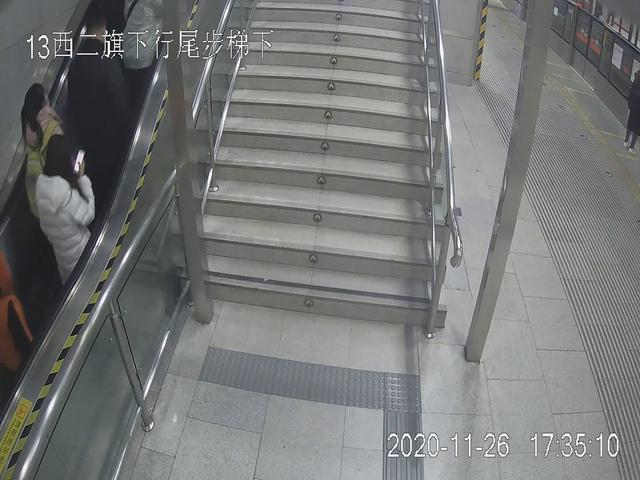person: (30, 133, 100, 307), (11, 79, 79, 241)
